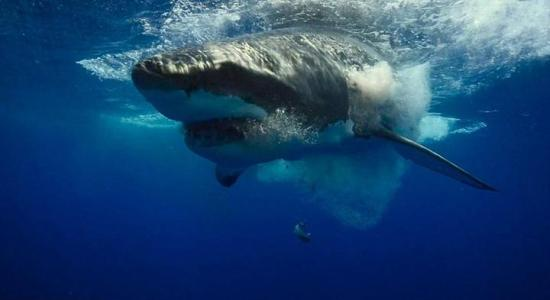shark: (131, 25, 510, 210)
